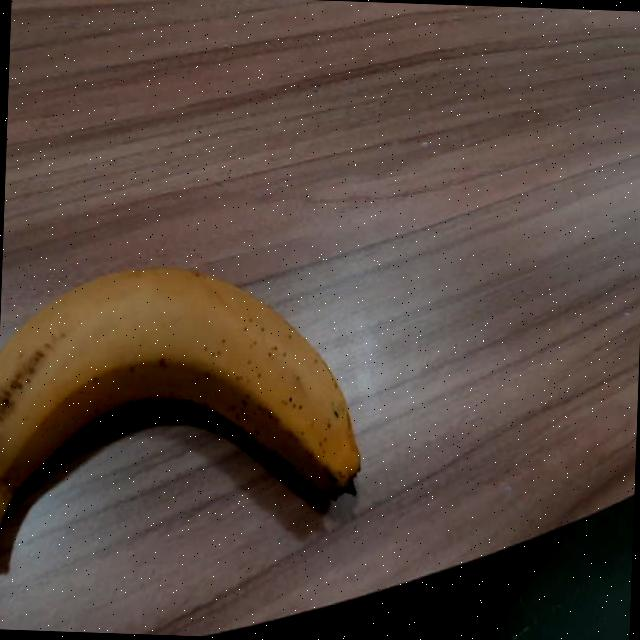Ripe: (0, 223, 380, 611)
